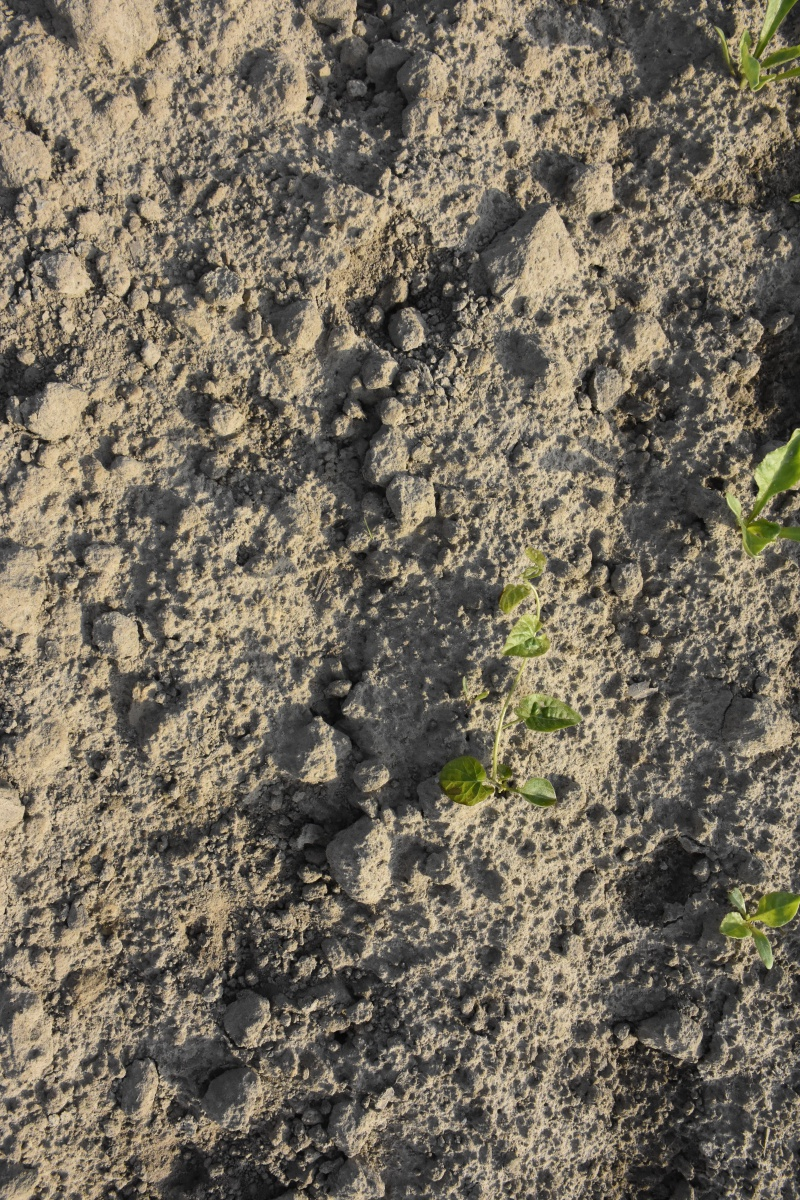field bindweed: (443, 554, 583, 808)
sugar beet: (716, 411, 800, 552), (700, 1, 793, 102), (710, 871, 800, 951)
